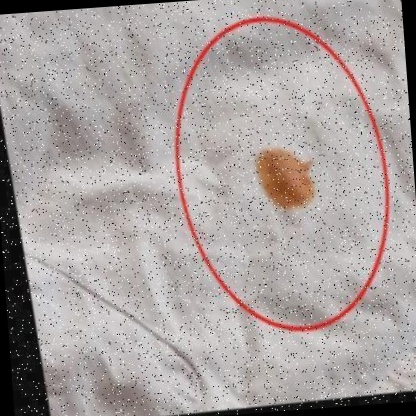kimchi: (241, 130, 326, 229)
